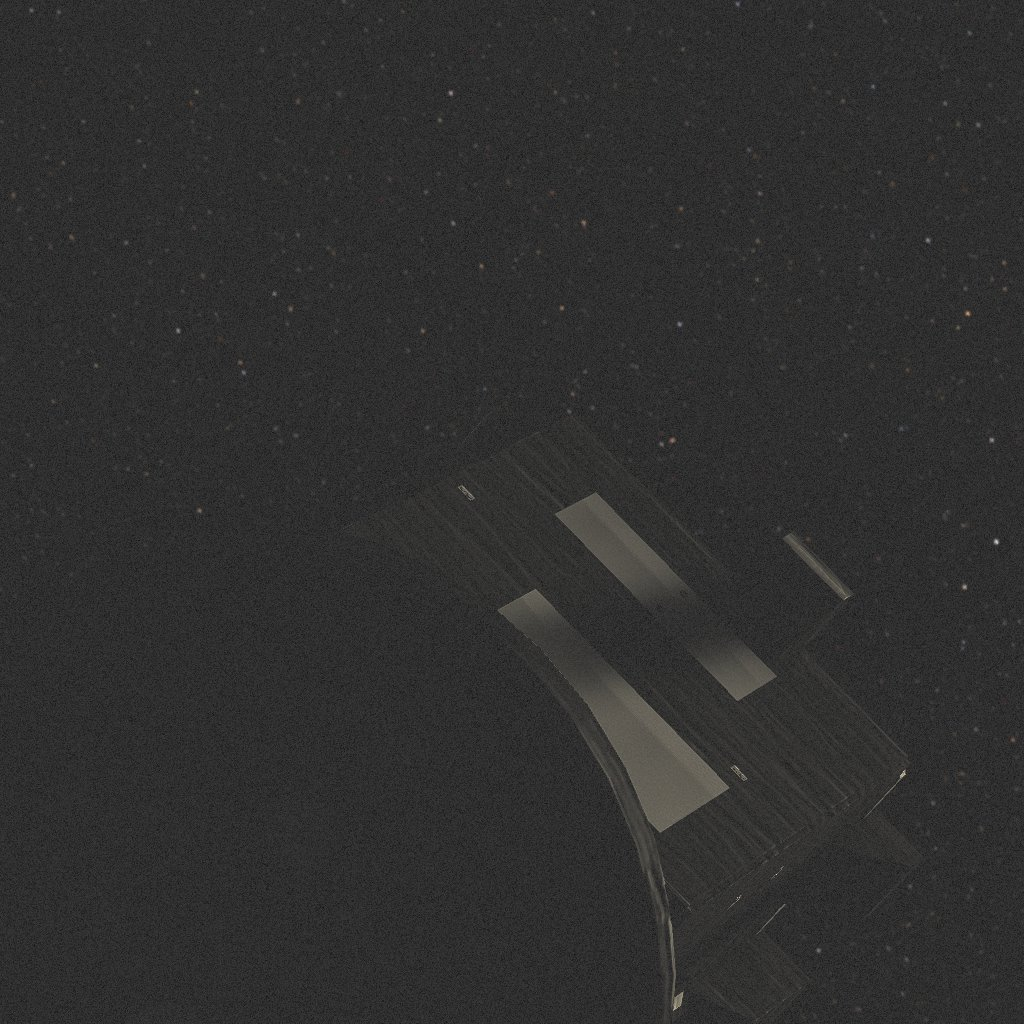proba_3_ocs: (0, 407, 925, 1024)
